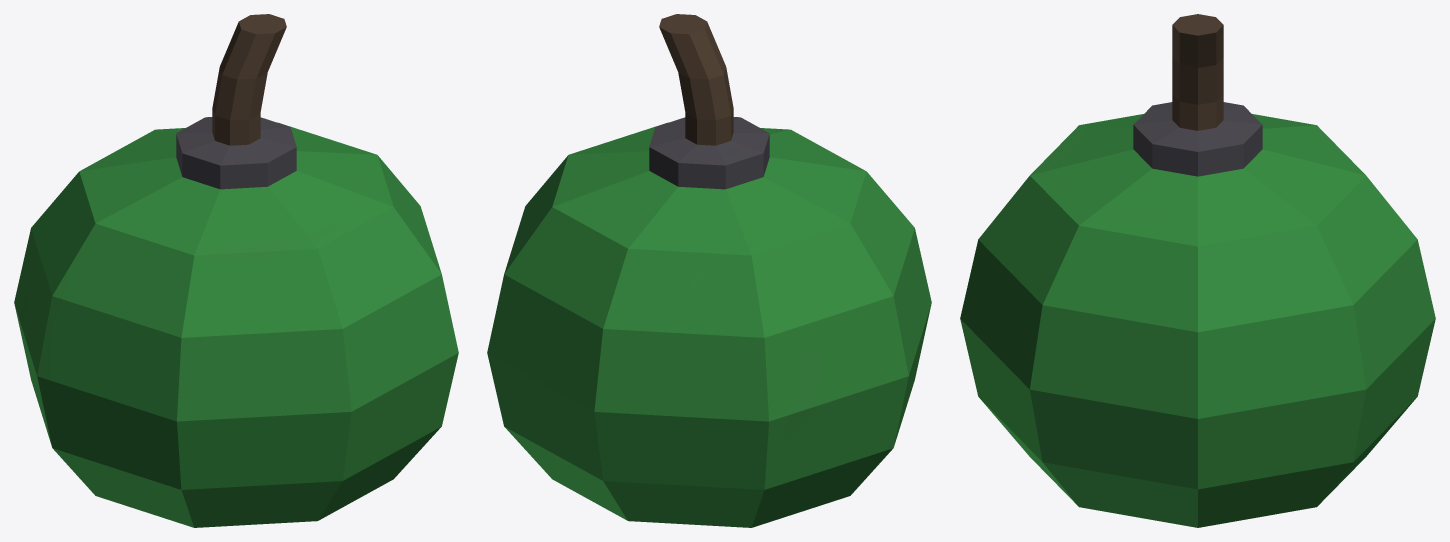
The model's file is bomb.fbx.
3 views of the same model, side by side, from view 1: azimuth 30°, elevation 25°; view 2: azimuth 150°, elevation 25°; view 3: azimuth 270°, elevation 25° (orthographic). The views are drawn at different scales.
Visible parts, largest first — view 1: Sphere.001; view 2: Sphere.001; view 3: Sphere.001.
Boxes of the visible parts, x1,y1,x2,y2 form: Sphere.001: [14, 14, 458, 527]; Sphere.001: [487, 14, 931, 527]; Sphere.001: [960, 14, 1435, 527].
Bounding box in the file's own units: 127 × 139 × 127.
Materials: 1 (1 with a texture image).
